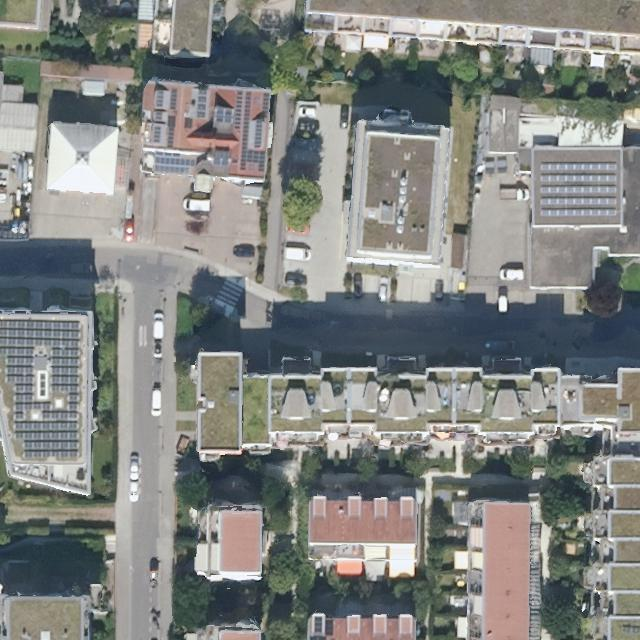PV: (2, 318, 83, 463), (536, 159, 622, 218), (233, 87, 271, 175), (149, 154, 196, 177), (166, 85, 181, 151), (152, 88, 168, 147), (194, 85, 209, 120)
